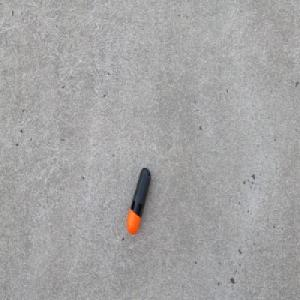PlasticPart: (126, 166, 151, 235)
